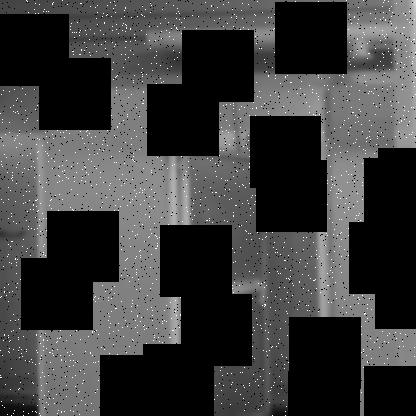Porte: (164, 137, 337, 415)
